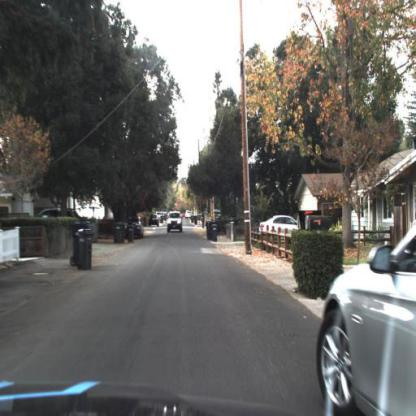car: (316, 209, 416, 416), (256, 213, 301, 238), (34, 205, 77, 230), (125, 215, 145, 240), (167, 212, 185, 232), (210, 208, 223, 222), (149, 215, 161, 229), (186, 210, 194, 221)
